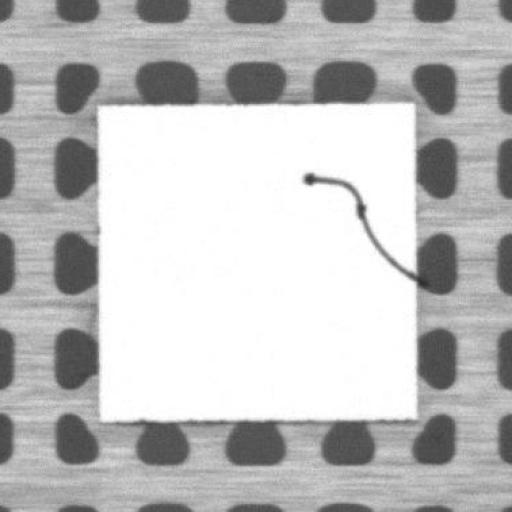DIE_INK: (304, 173, 414, 282)
